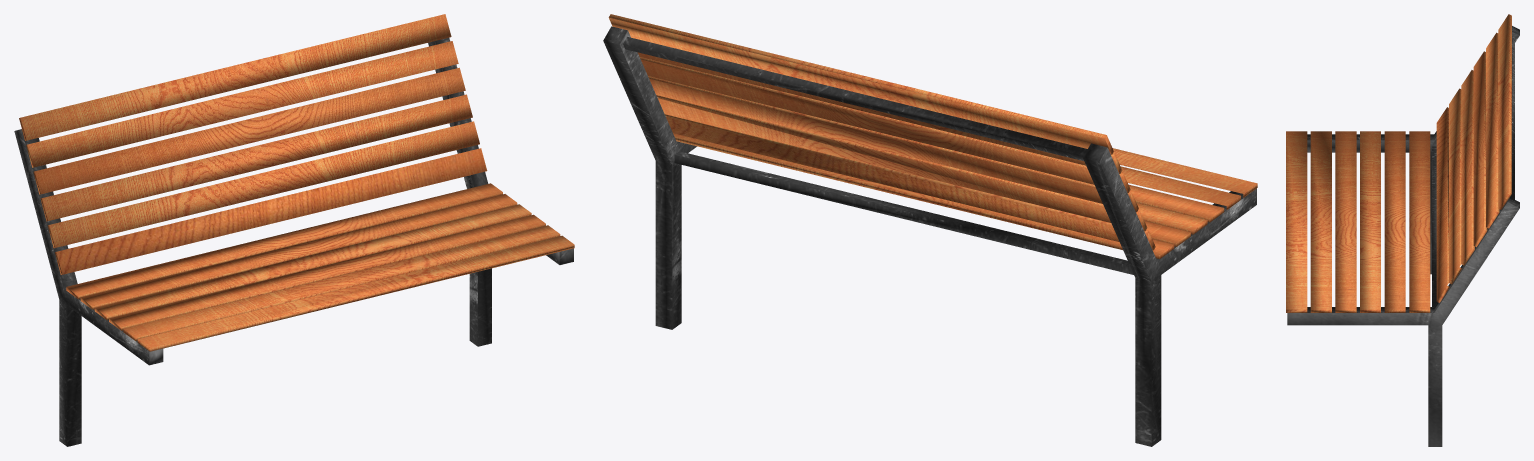
Rendered from bench.glb.
The picture shows the model from 3 angles, left to right: view 1: azimuth 30°, elevation 25°; view 2: azimuth 150°, elevation 25°; view 3: azimuth 270°, elevation 25°; orthographic projection. The views are drawn at different scales.
Visible parts, largest first — view 1: simple-bench-3.009-1, simple-bench-3.002; view 2: simple-bench-3.009-1, simple-bench-3.002; view 3: simple-bench-3.009-1, simple-bench-3.002.
Boxes of the visible parts, box(x1,y1,x2,y2) form: simple-bench-3.009-1: box(19, 14, 574, 351); simple-bench-3.002: box(14, 37, 573, 446); simple-bench-3.009-1: box(608, 14, 1257, 258); simple-bench-3.002: box(603, 26, 1256, 446); simple-bench-3.009-1: box(1286, 14, 1511, 312); simple-bench-3.002: box(1287, 26, 1519, 446).
Size of the model in its own units: 1.5 by 0.9964 by 0.83.
2 materials, 2 textured.
